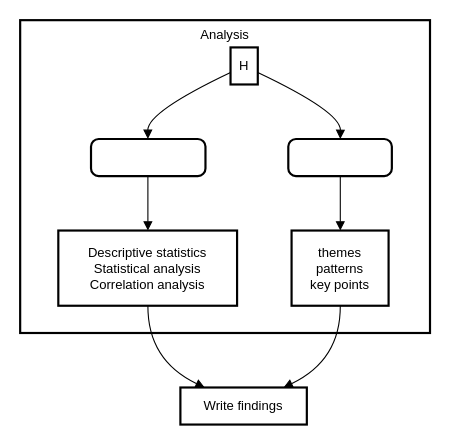
Image size: 449x444. Some labels were removed from this diagram. Each missing label, with the centre of its shape:
"Qualitative" belongs at (x=339, y=157).
"Quantitative" belongs at (x=147, y=157).
